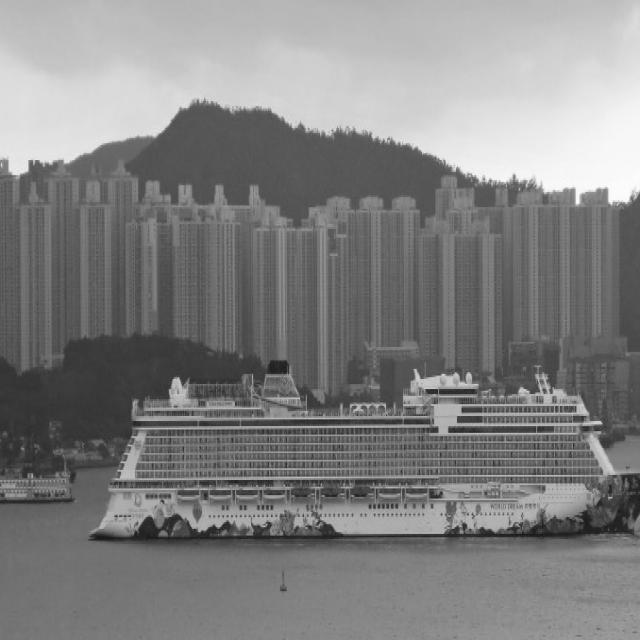cruises: (88, 351, 640, 557)
